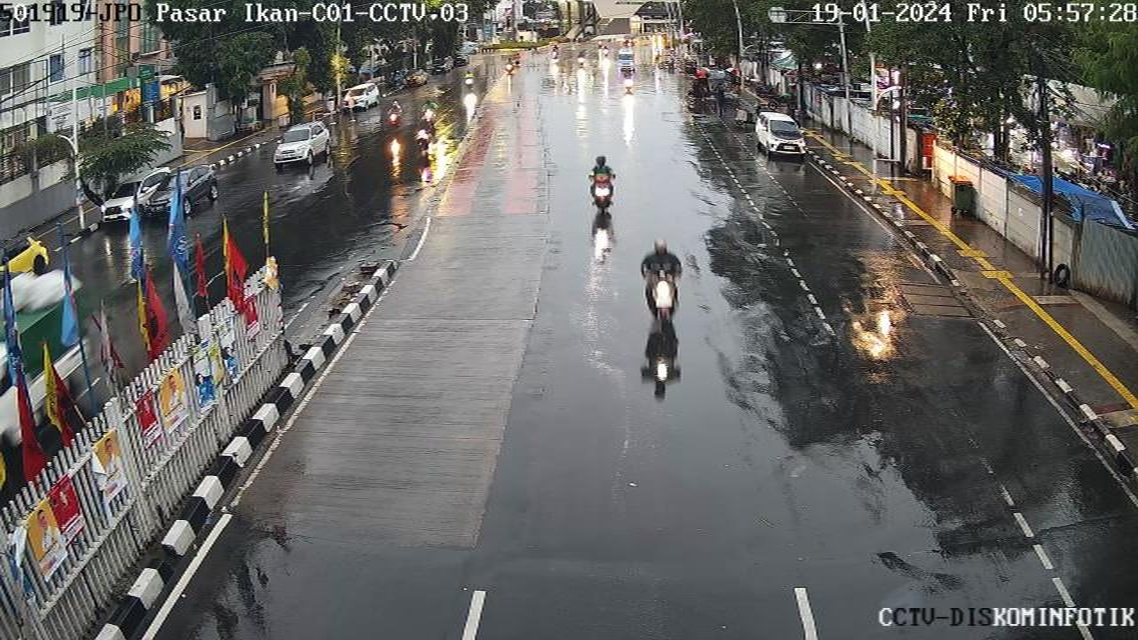Payung: (725, 61, 743, 78)
